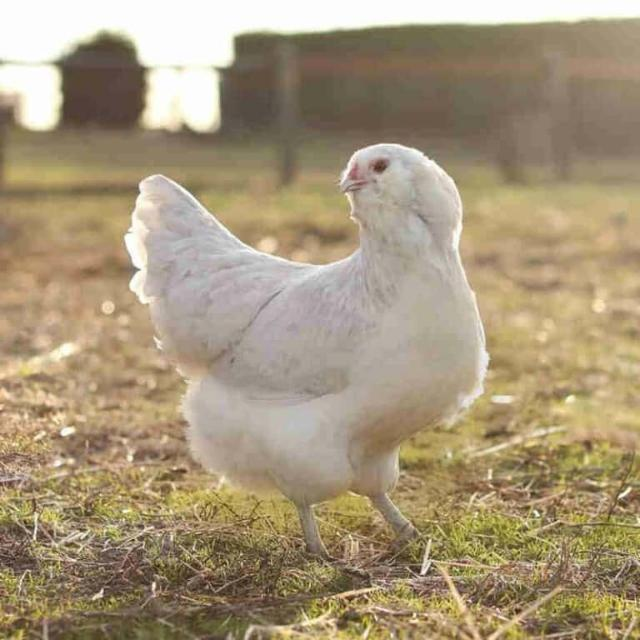Chicken: (121, 142, 490, 561)
